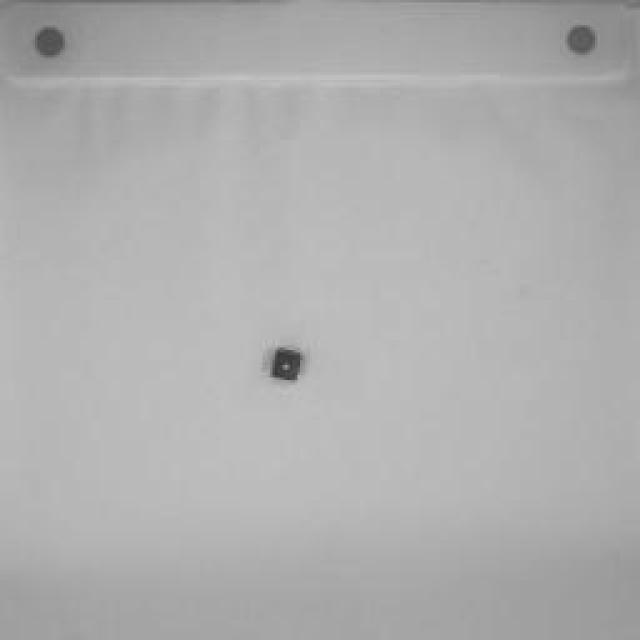dice_1: (269, 344, 309, 386)
